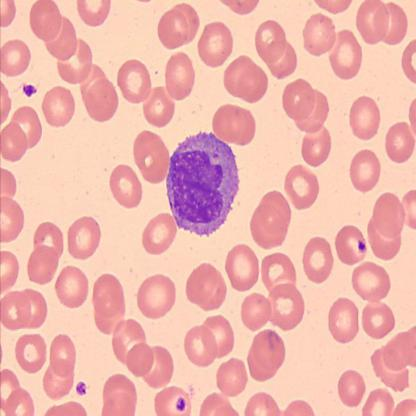Monocyte: (163, 128, 243, 240)
